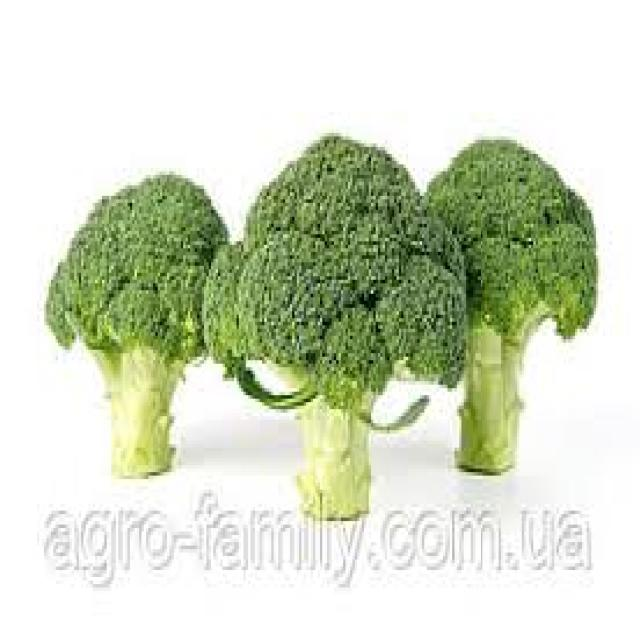broccoli: (229, 94, 456, 572), (44, 112, 230, 474), (426, 142, 616, 490)
